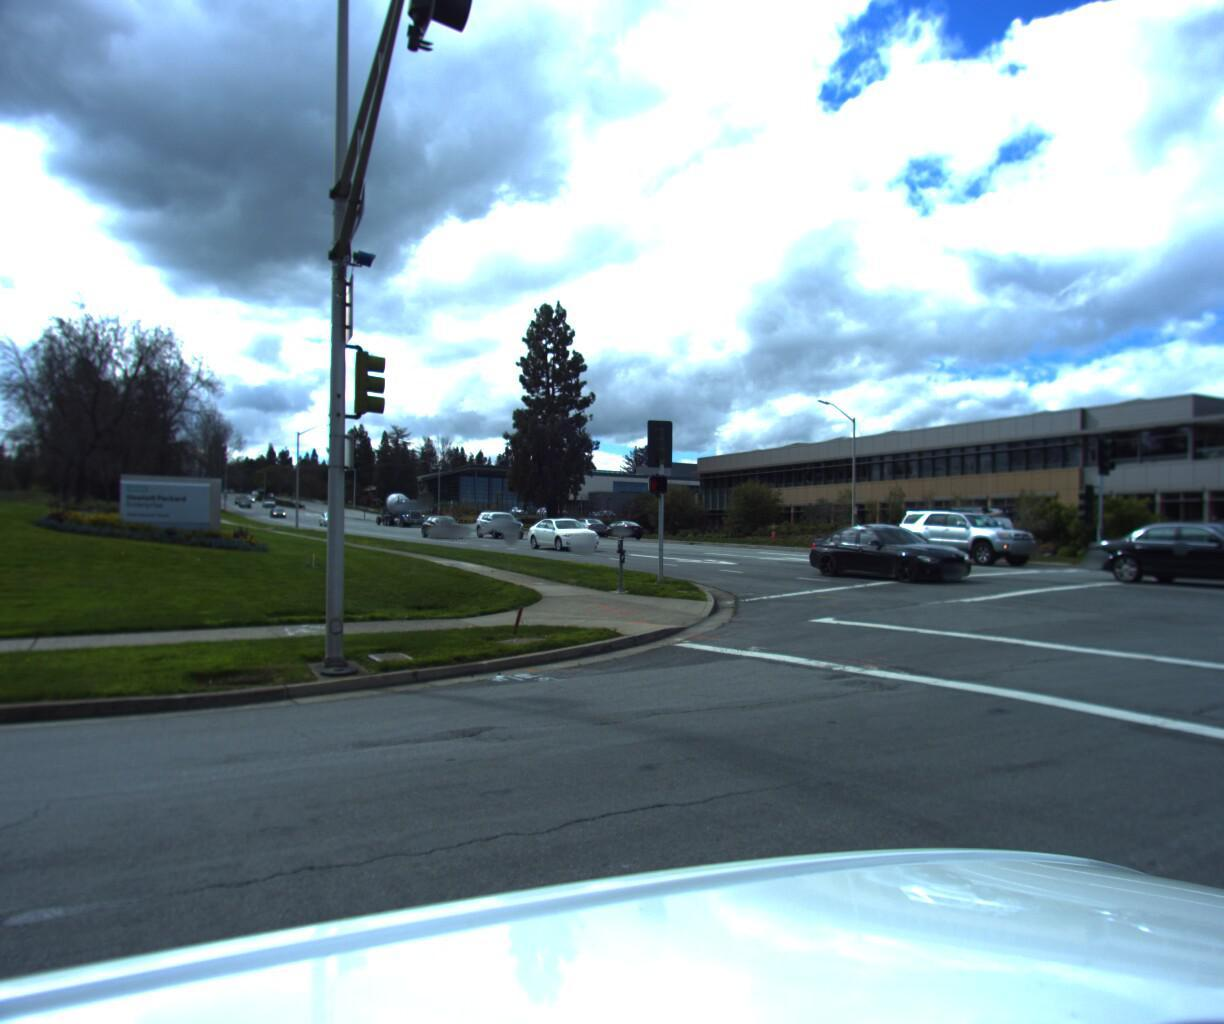car: (1069, 525, 1224, 597), (802, 529, 981, 586), (878, 509, 1036, 570), (524, 522, 602, 556), (472, 520, 524, 547), (421, 525, 468, 548), (562, 521, 609, 542), (598, 523, 644, 543)
truck: (895, 507, 1020, 565)
